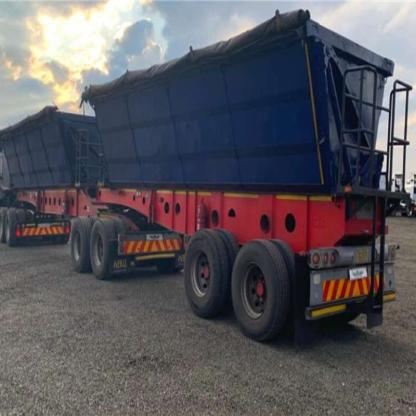dump_truck: (0, 9, 414, 355)
